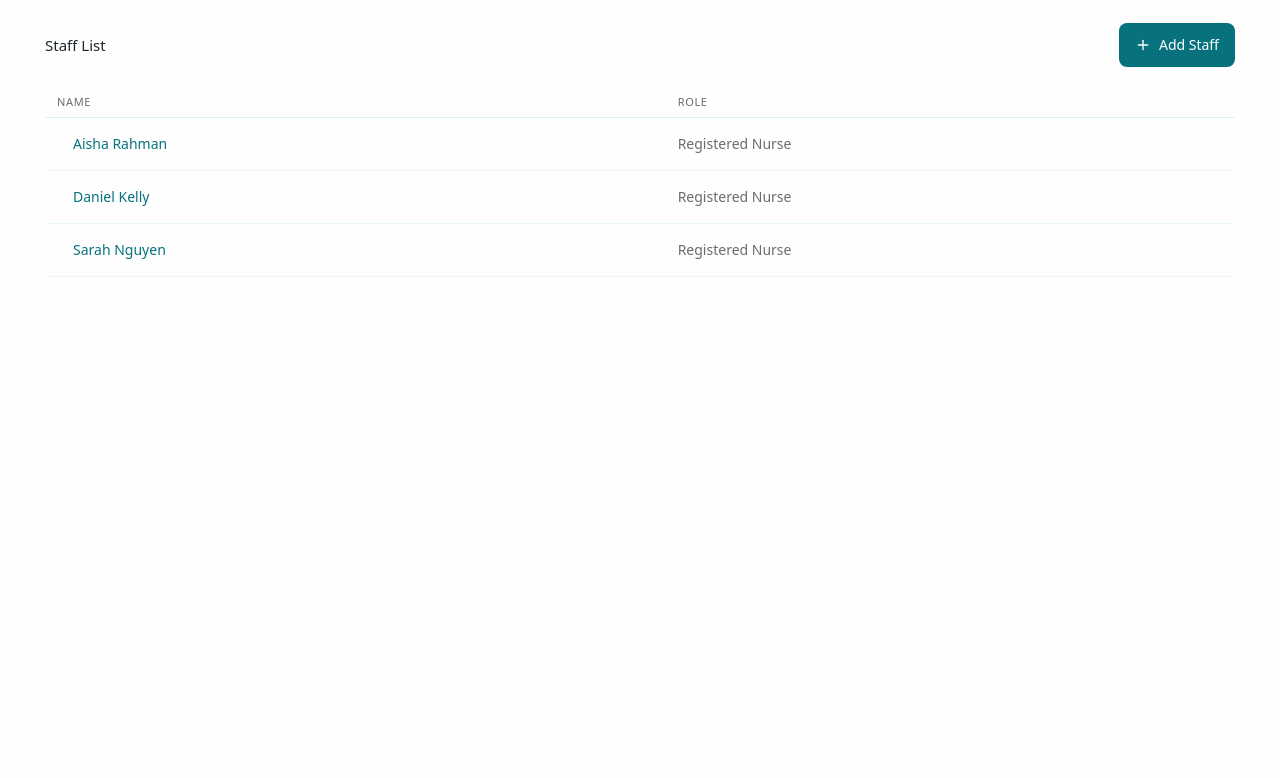
Test case: [ADM-08][AC-04] the carer's Clients list › [ADM-08][AC-04] shows an empty state for a carer with no clients
The width and height of the screenshot is (1280, 778).
Click the button with aria-label "Edit Aisha Rahman".
click(120, 144)  # box [57, 122, 183, 166]
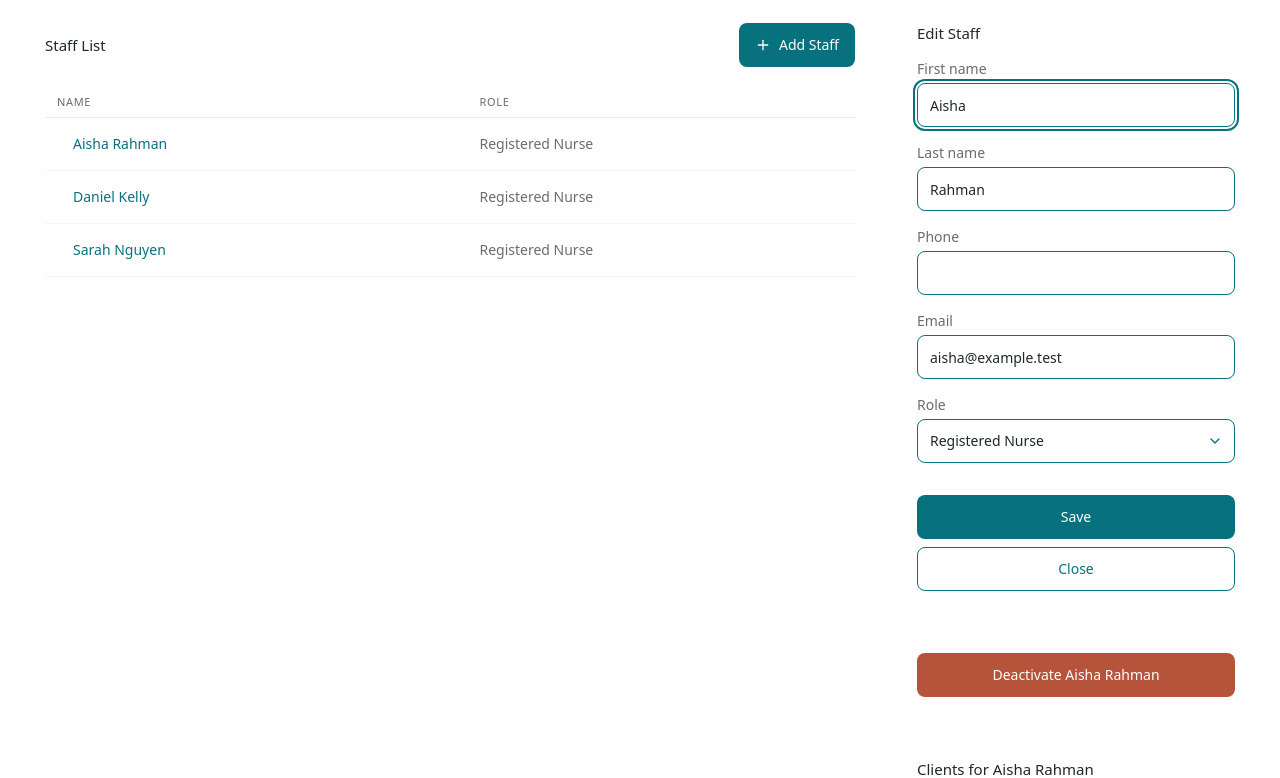
Click the button with aria-label "Edit Sarah Nguyen".
click(119, 250)  # box [57, 228, 182, 272]
(page scrolled)
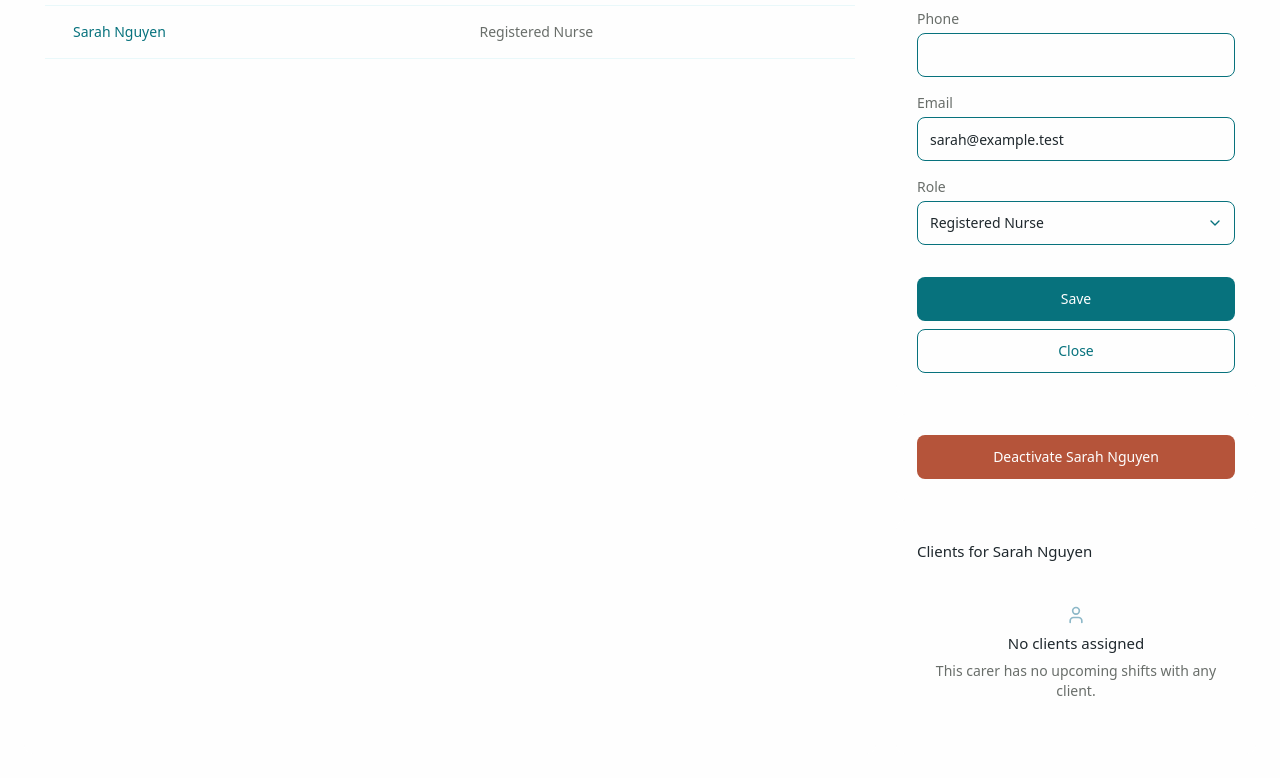
Check: the text "No clients assigned" is shown, box [1008, 633, 1144, 653]
